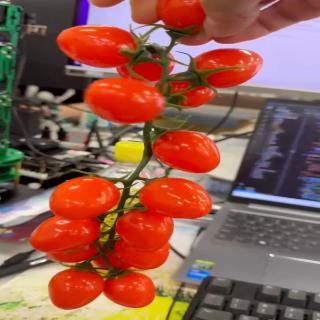tomato: (82, 78, 166, 126), (57, 24, 142, 66), (140, 176, 214, 219), (188, 48, 262, 90), (152, 129, 221, 174), (49, 175, 120, 218), (29, 216, 102, 254), (48, 266, 105, 310), (117, 207, 174, 250), (116, 43, 176, 82), (114, 233, 172, 271), (103, 270, 158, 308), (154, 81, 216, 111), (155, 0, 209, 34), (45, 236, 101, 262)
